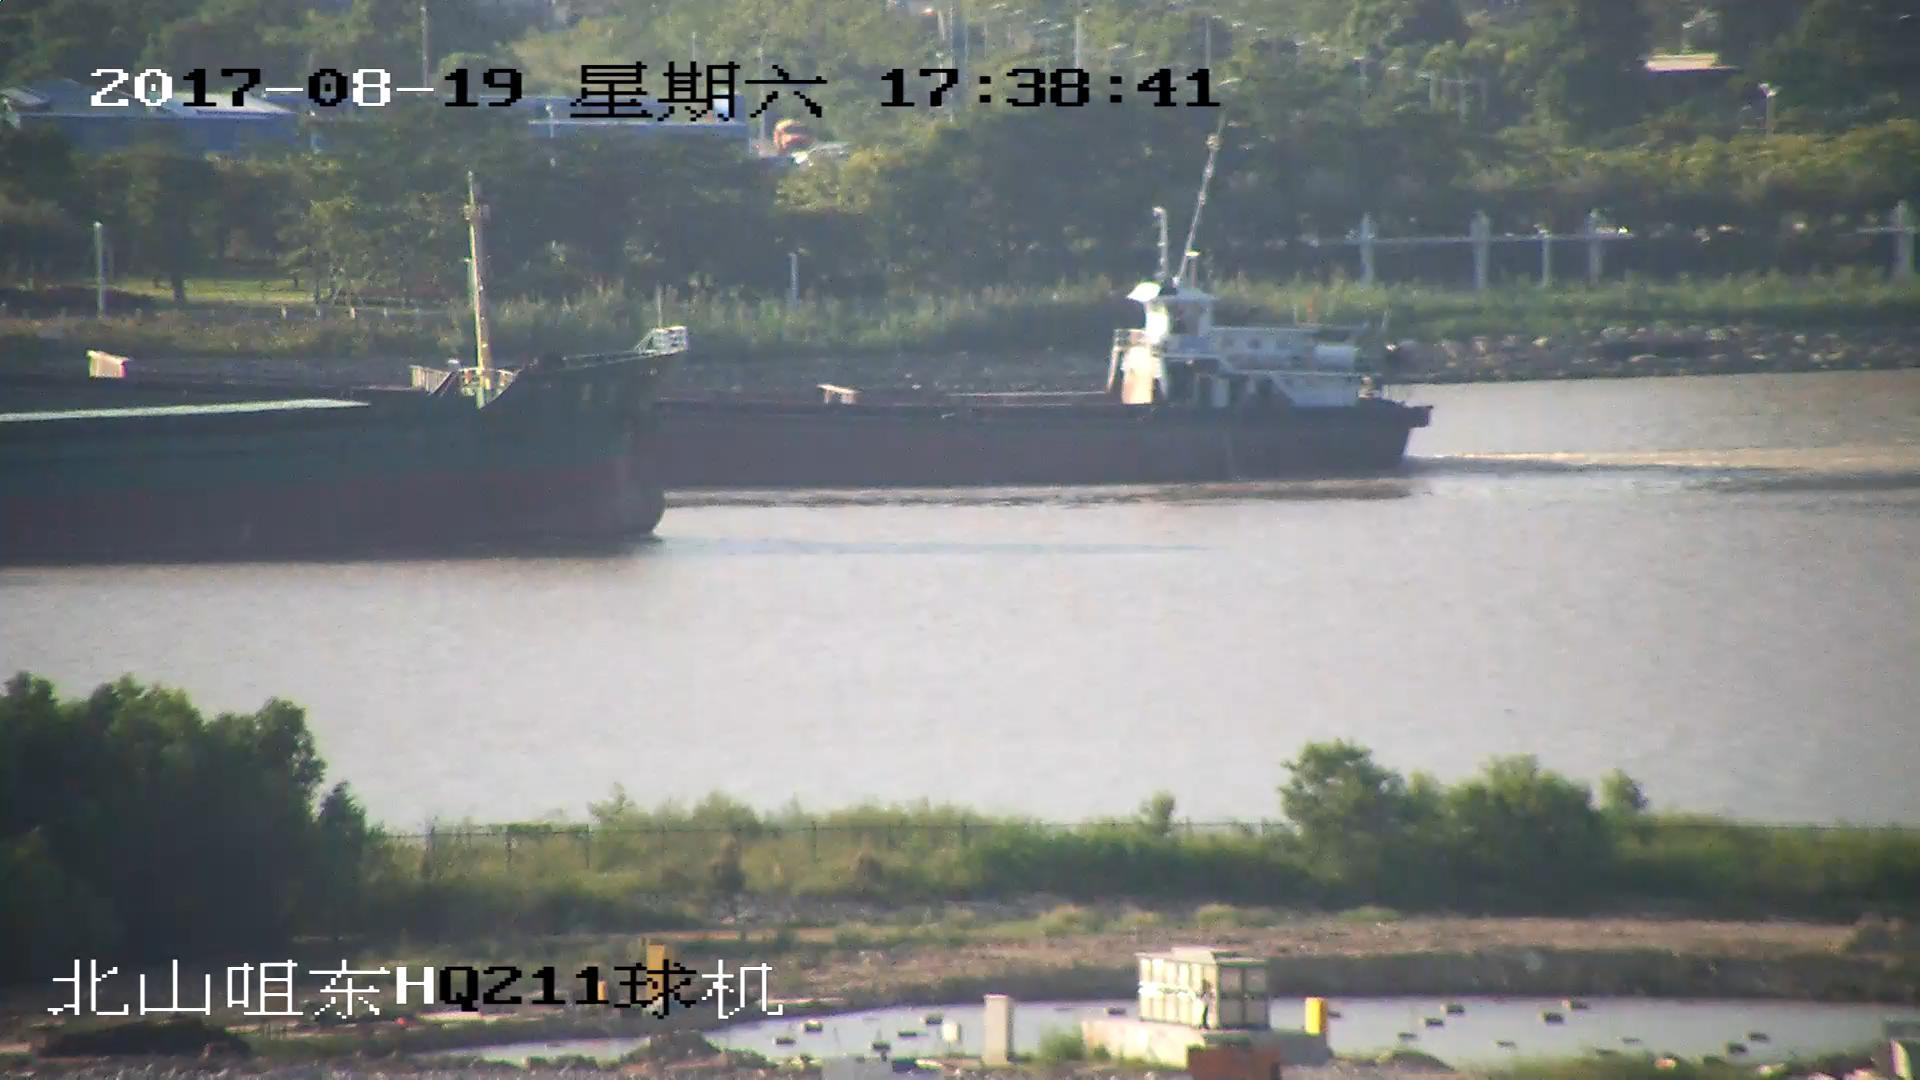Ship: (675, 282, 1425, 487), (3, 330, 675, 545)
